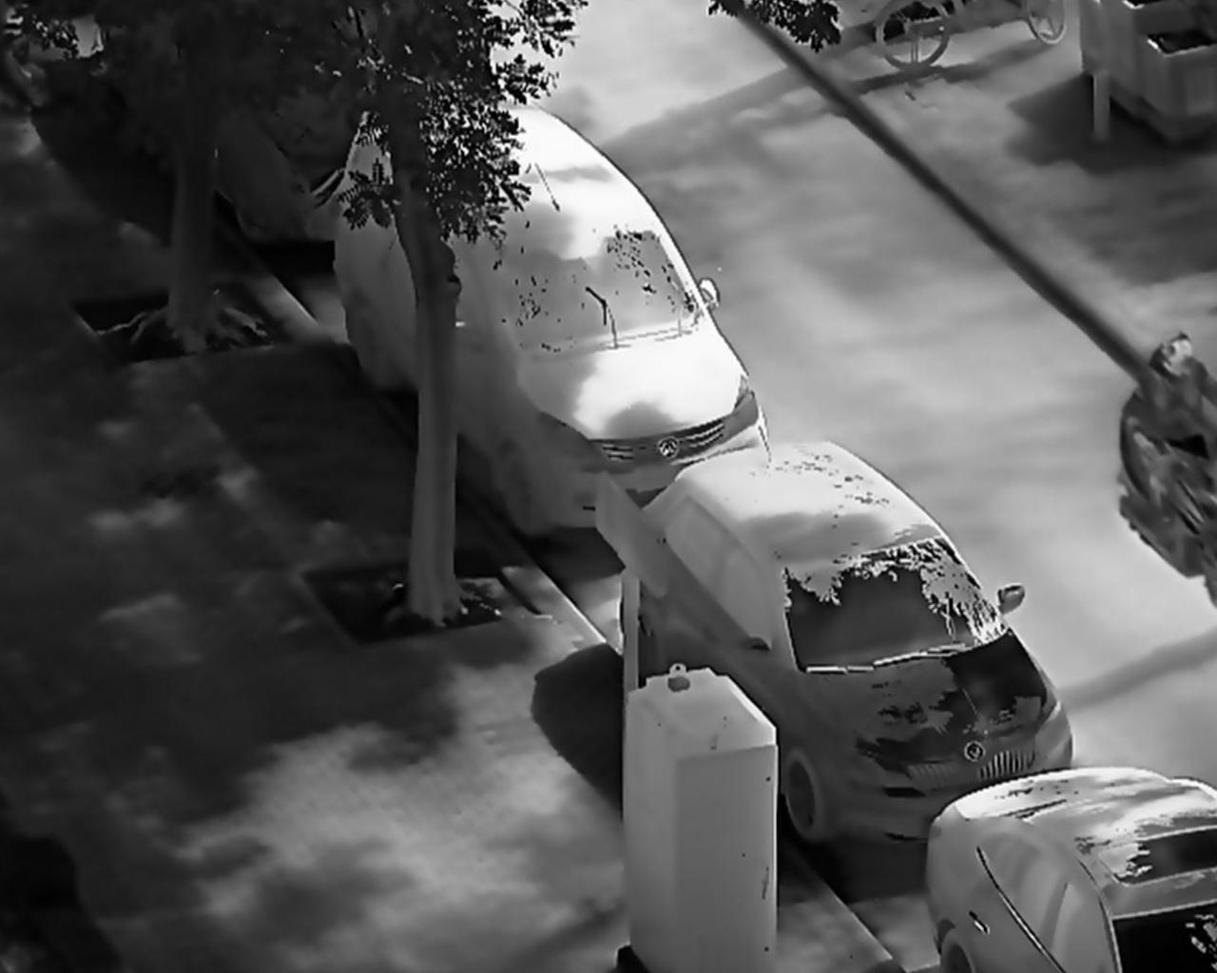person: (1130, 329, 1217, 525)
